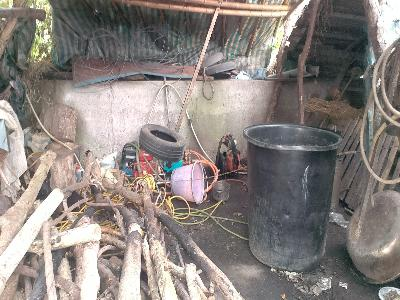bowl: (345, 187, 400, 285), (212, 180, 231, 203)
bucket: (240, 121, 345, 272), (170, 161, 206, 203)
plate: (205, 61, 236, 75)
tire: (139, 123, 186, 164)
